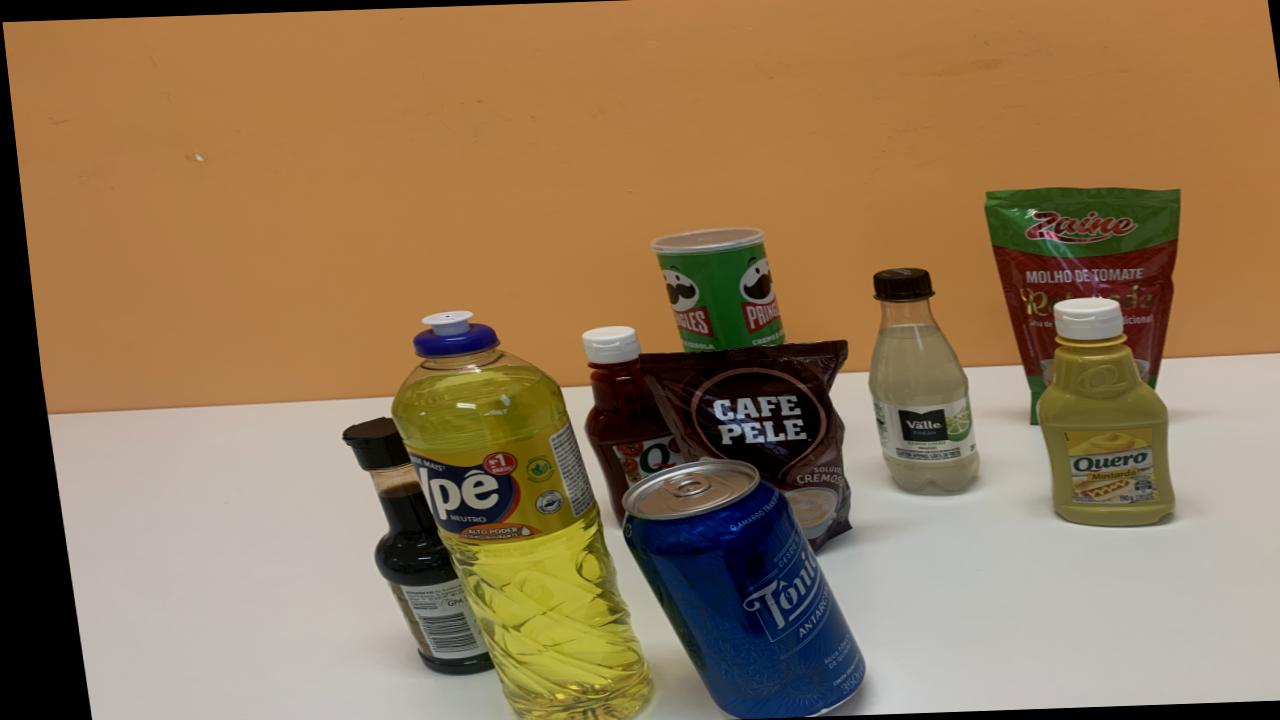Coffee-Pantry_Items: (631, 341, 841, 549)
Detergent-Cleanup_Items: (382, 311, 637, 720)
English_Sauce-Pantry_Items: (333, 417, 476, 675)
Ketchup-Pantry_Items: (574, 326, 674, 522)
Mustard-Pantry_Items: (1027, 296, 1164, 526)
Pringles-Snacks: (645, 227, 777, 352)
Soda-Drinks: (859, 269, 969, 494)
Tomato_Sauce-Pantry_Items: (980, 187, 1177, 423)
Tonic-Drinks: (610, 460, 850, 718)
